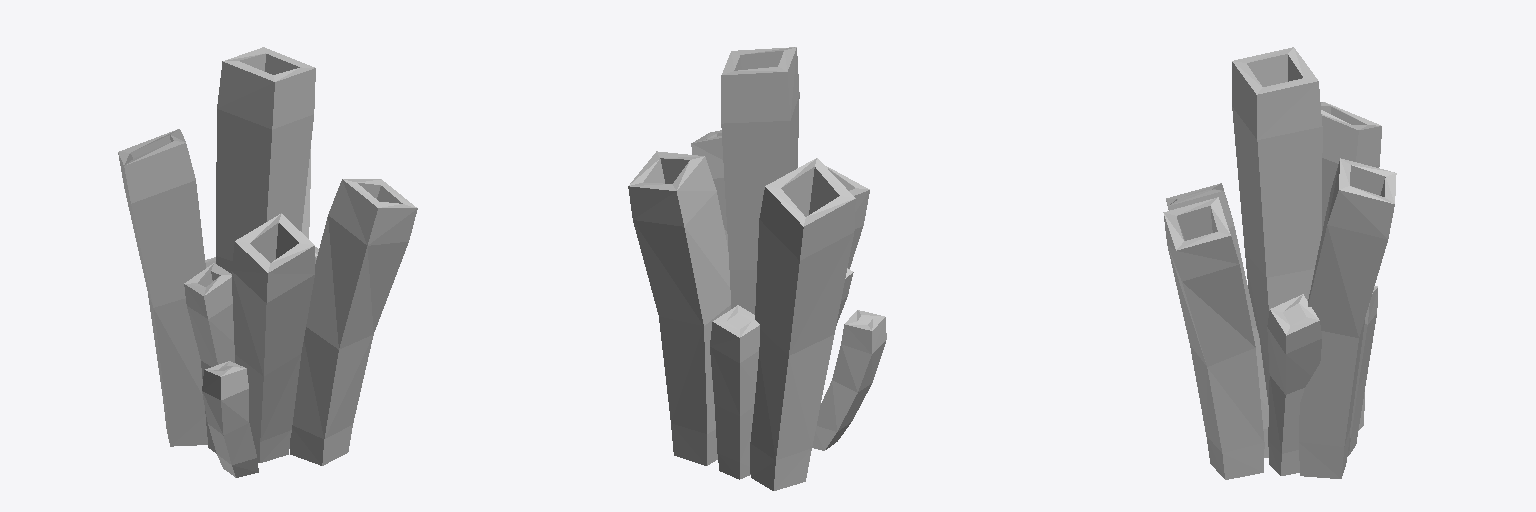
The model's file is Coral_C_01_LOD3.obj.
3 renders of one model, left to right at view 1: azimuth 30°, elevation 25°; view 2: azimuth 150°, elevation 25°; view 3: azimuth 270°, elevation 25°, orthographic.
Visible parts, largest first — view 1: Coral_C_01_LOD3_Cylinder.438; view 2: Coral_C_01_LOD3_Cylinder.438; view 3: Coral_C_01_LOD3_Cylinder.438.
Boxes of the visible parts, <box> form: Coral_C_01_LOD3_Cylinder.438: <box>118,47,417,477</box>; Coral_C_01_LOD3_Cylinder.438: <box>628,47,886,490</box>; Coral_C_01_LOD3_Cylinder.438: <box>1163,47,1396,479</box>.
Bounding box in the file's own units: 3.84 × 6.55 × 3.53.